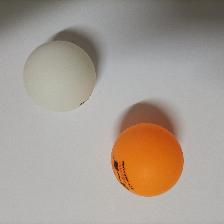WhiteBall: (21, 41, 96, 112)
YellowBall: (109, 123, 184, 197)
